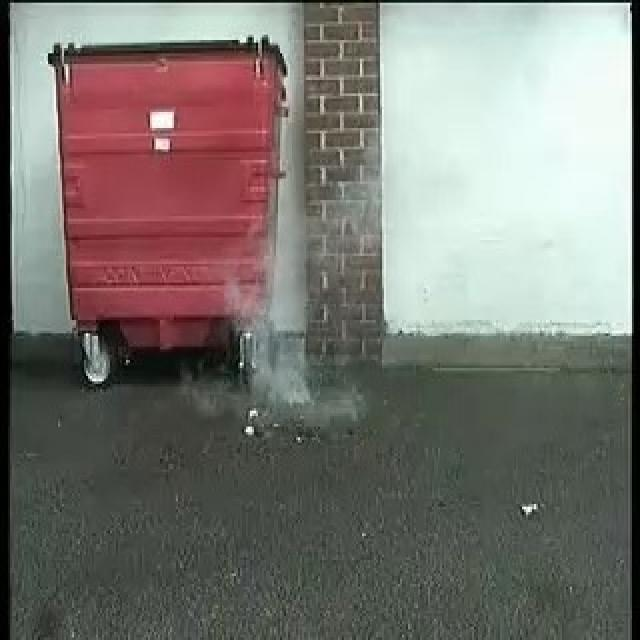smoke: (238, 297, 312, 415)
